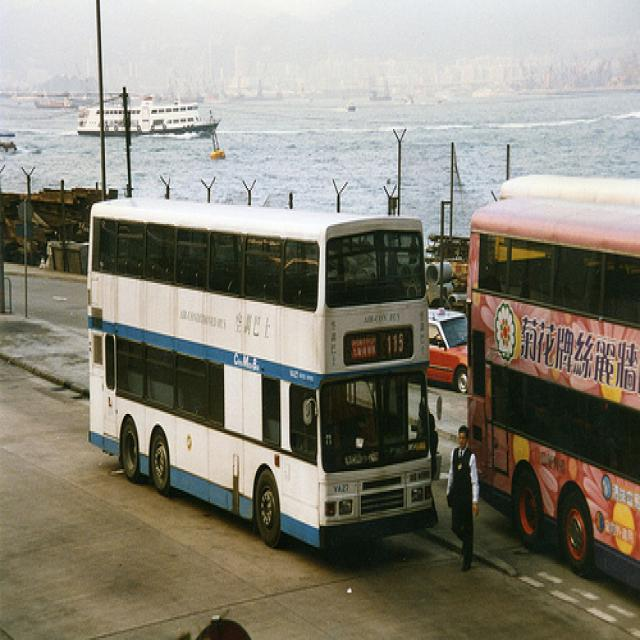light_vehicle: (426, 308, 468, 397)
